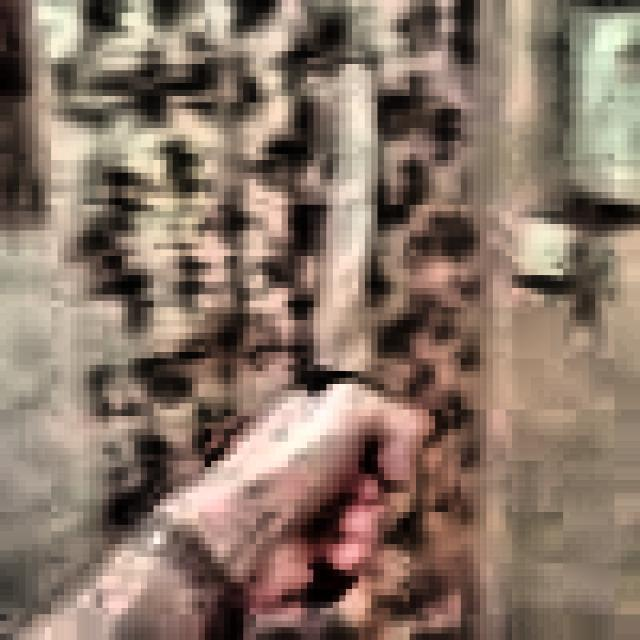knife: (311, 66, 383, 607)
